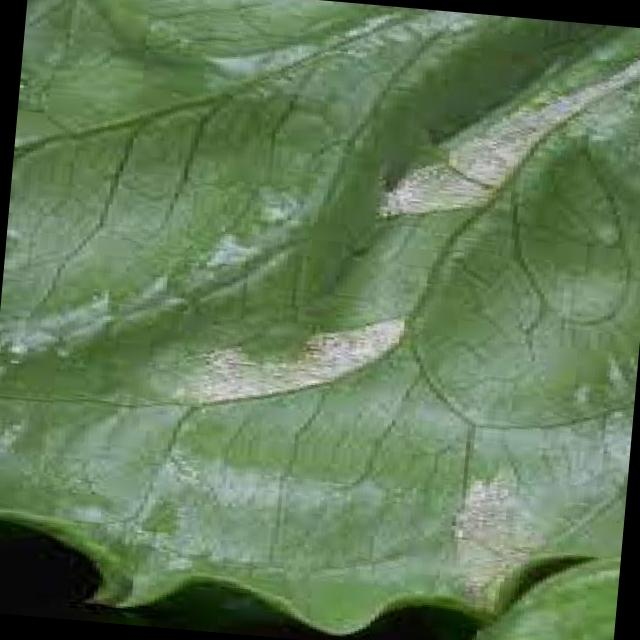Powdery_mildew_on_lettuce: (61, 18, 640, 555)
